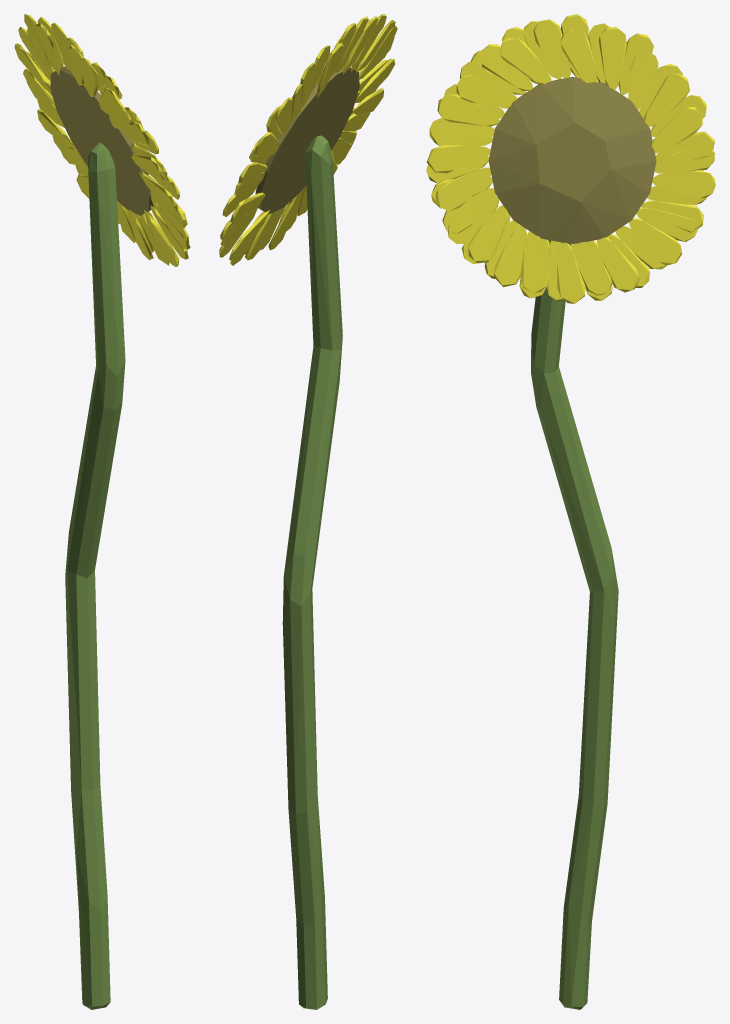
Rendered from sunflower01.fbx.
3 renders of one model, left to right at view 1: azimuth 30°, elevation 25°; view 2: azimuth 150°, elevation 25°; view 3: azimuth 270°, elevation 25°, orthographic.
Parts seen in each view (by area): view 1: Cylinder.003; view 2: Cylinder.003; view 3: Cylinder.003.
Part boxes in pixels (x1=…): Cylinder.003: x1=14, y1=14, x2=190, y2=1009; Cylinder.003: x1=219, y1=14, x2=397, y2=1009; Cylinder.003: x1=426, y1=14, x2=715, y2=1009.
Size of the model in its own units: 0.0834 by 0.8184 by 0.2207.
